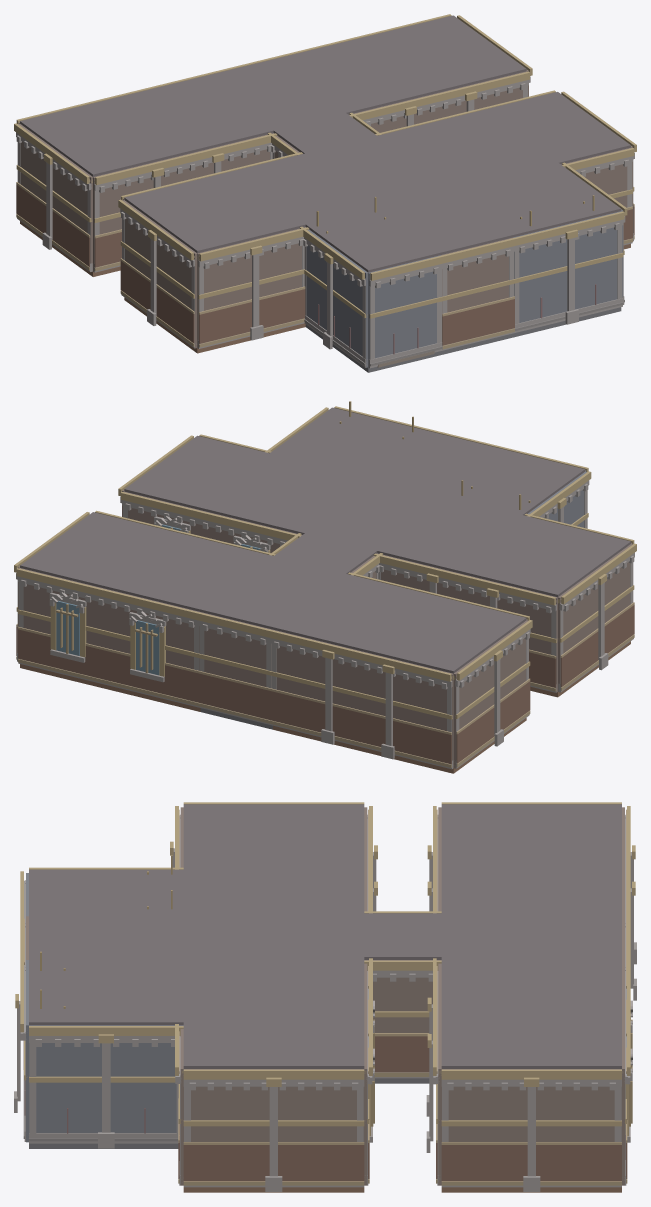
The model's file is floor_02.glb.
3 views of the same model, one above another, from view 1: azimuth 30°, elevation 25°; view 2: azimuth 150°, elevation 25°; view 3: azimuth 270°, elevation 25° (orthographic). The views are drawn at different scales.
Parts seen in each view (by area): view 1: fe-f2-hall-ceiling, fe-f2-room1-ceiling, fe-f2-room2-ceiling, fe-f2-room3-ceiling, fe-f2-room4-ceiling, fe-f2-spiral-ceiling, fe-f2-spiral-top-end, fe-f2-regular-ceiling, fe-f2-regular-top-end, fe-f2-room3-top-end, fe-f2-regular-left-end, fe-f2-room3-top-finish-end-lower (+34 smaller); view 2: fe-f2-hall-ceiling, fe-f2-room1-ceiling, fe-f2-room3-ceiling, fe-f2-room2-ceiling, fe-f2-room4-ceiling, fe-f2-room1-bottom-end, fe-f2-spiral-ceiling, fe-f2-room1-bottom-finish-end-lower, fe-f2-regular-ceiling, fe-f2-room3-left-end, fe-f2-room1-left-end, fe-f2-room3-bottom-end (+35 smaller); view 3: fe-f2-hall-ceiling, fe-f2-room4-ceiling, fe-f2-room2-ceiling, fe-f2-room3-ceiling, fe-f2-room1-ceiling, fe-f2-spiral-right-end, fe-f2-spiral-ceiling, fe-f2-room2-right-end, fe-f2-room4-right-end, fe-f2-regular-ceiling, fe-f2-room4-right-finish-end-lower, fe-f2-room2-right-finish-end-lower (+26 smaller).
Boxes of the visible parts, bbox=[...] form: fe-f2-hall-ceiling: bbox=[201, 59, 512, 254]; fe-f2-room1-ceiling: bbox=[20, 77, 273, 176]; fe-f2-room2-ceiling: bbox=[273, 15, 526, 114]; fe-f2-room3-ceiling: bbox=[124, 153, 377, 253]; fe-f2-room4-ceiling: bbox=[377, 92, 630, 189]; fe-f2-spiral-ceiling: bbox=[450, 163, 621, 237]; fe-f2-spiral-top-end: bbox=[513, 211, 622, 322]; fe-f2-regular-ceiling: bbox=[305, 207, 440, 272]; fe-f2-regular-top-end: bbox=[368, 255, 440, 367]; fe-f2-room3-top-end: bbox=[197, 227, 305, 348]; fe-f2-regular-left-end: bbox=[306, 229, 368, 367]; fe-f2-room3-top-finish-end-lower: bbox=[199, 289, 305, 343]; fe-f2-hall-ceiling: bbox=[200, 434, 512, 629]; fe-f2-room1-ceiling: bbox=[273, 574, 526, 673]; fe-f2-room3-ceiling: bbox=[377, 497, 630, 597]; fe-f2-room2-ceiling: bbox=[20, 512, 273, 611]; fe-f2-room4-ceiling: bbox=[124, 435, 377, 534]; fe-f2-room1-bottom-end: bbox=[272, 629, 453, 768]; fe-f2-spiral-ceiling: bbox=[270, 407, 439, 479]; fe-f2-room1-bottom-finish-end-lower: bbox=[270, 691, 451, 764]; fe-f2-regular-ceiling: bbox=[450, 451, 584, 515]; fe-f2-room3-left-end: bbox=[558, 544, 632, 692]; fe-f2-room1-left-end: bbox=[453, 620, 528, 768]; fe-f2-room3-bottom-end: bbox=[377, 553, 557, 692]; fe-f2-hall-ceiling: bbox=[29, 913, 621, 959]; fe-f2-room4-ceiling: bbox=[183, 957, 364, 1068]; fe-f2-room2-ceiling: bbox=[441, 957, 621, 1068]; fe-f2-room3-ceiling: bbox=[183, 804, 364, 913]; fe-f2-room1-ceiling: bbox=[441, 804, 621, 913]; fe-f2-spiral-right-end: bbox=[29, 1025, 183, 1132]; fe-f2-spiral-ceiling: bbox=[29, 957, 183, 1025]; fe-f2-room2-right-end: bbox=[441, 1069, 621, 1141]; fe-f2-room4-right-end: bbox=[183, 1069, 364, 1141]; fe-f2-regular-ceiling: bbox=[29, 869, 183, 913]; fe-f2-room4-right-finish-end-lower: bbox=[183, 1145, 364, 1181]; fe-f2-room2-right-finish-end-lower: bbox=[441, 1145, 621, 1181].
Size of the model in its own units: 15.34 by 3.79 by 14.73.
